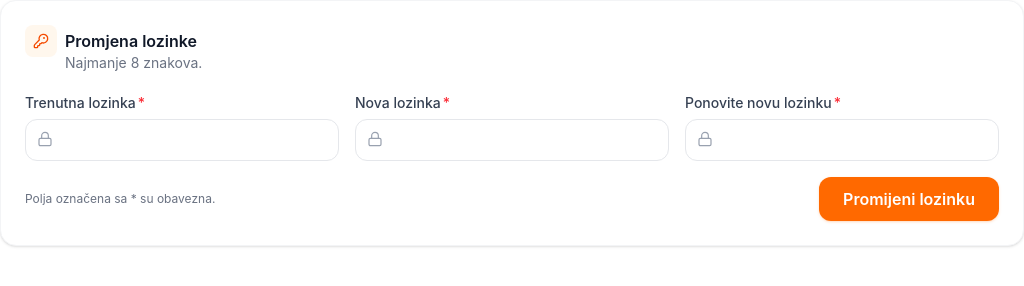
Test case: ChangePasswordForm › stops when the new passwords differ
The width and height of the screenshot is (1024, 286).
Type "stara-lozinka" into the password field labelled "Trenutna lozinka".
click(182, 140); type("stara-lozinka")  # box [25,119,339,161]
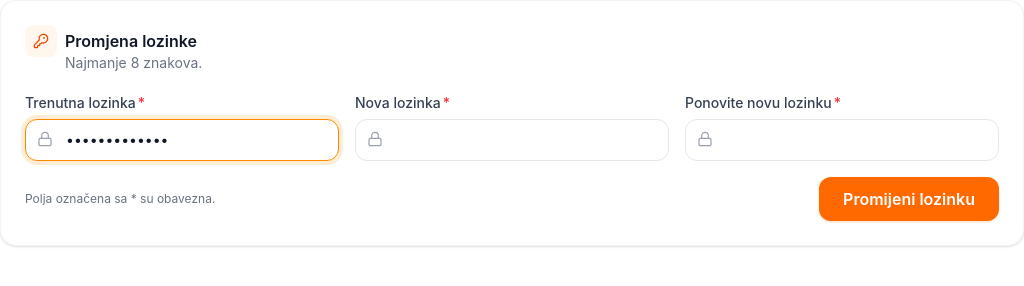
Type "nova-lozinka" into the password field labelled "Nova lozinka".
click(512, 140); type("nova-lozinka")  # box [355,119,669,161]
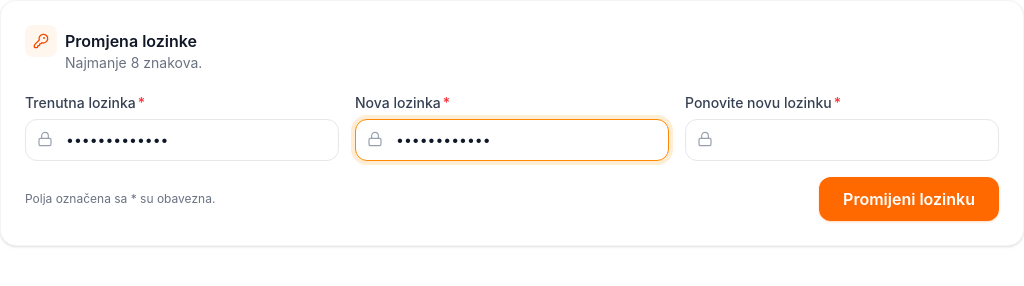
Type "druga-lozinka" into the password field labelled "Ponovite novu lozinku".
click(842, 140); type("druga-lozinka")  # box [685,119,999,161]
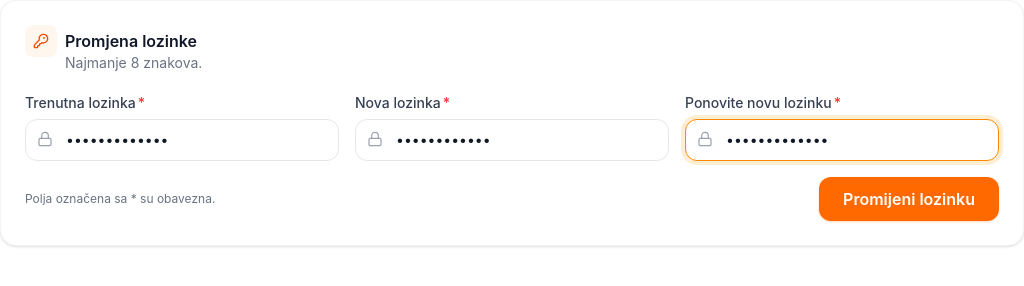
Click the button "Promijeni lozinku".
click(909, 199)  # box [819,177,999,221]
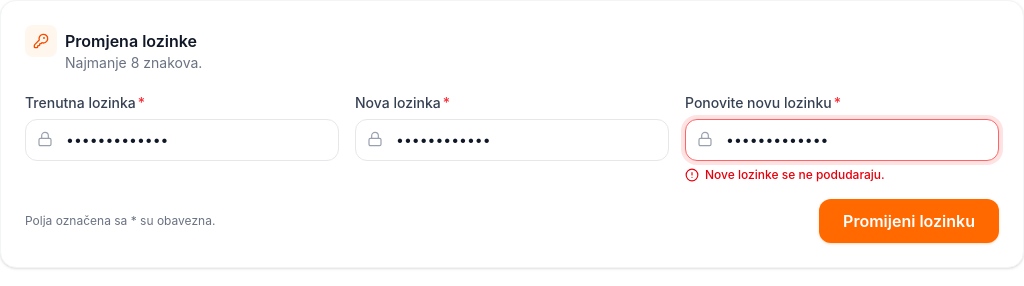
Expected: the text "Nove lozinke se ne podudaraju." is shown, [685,167,885,182]
